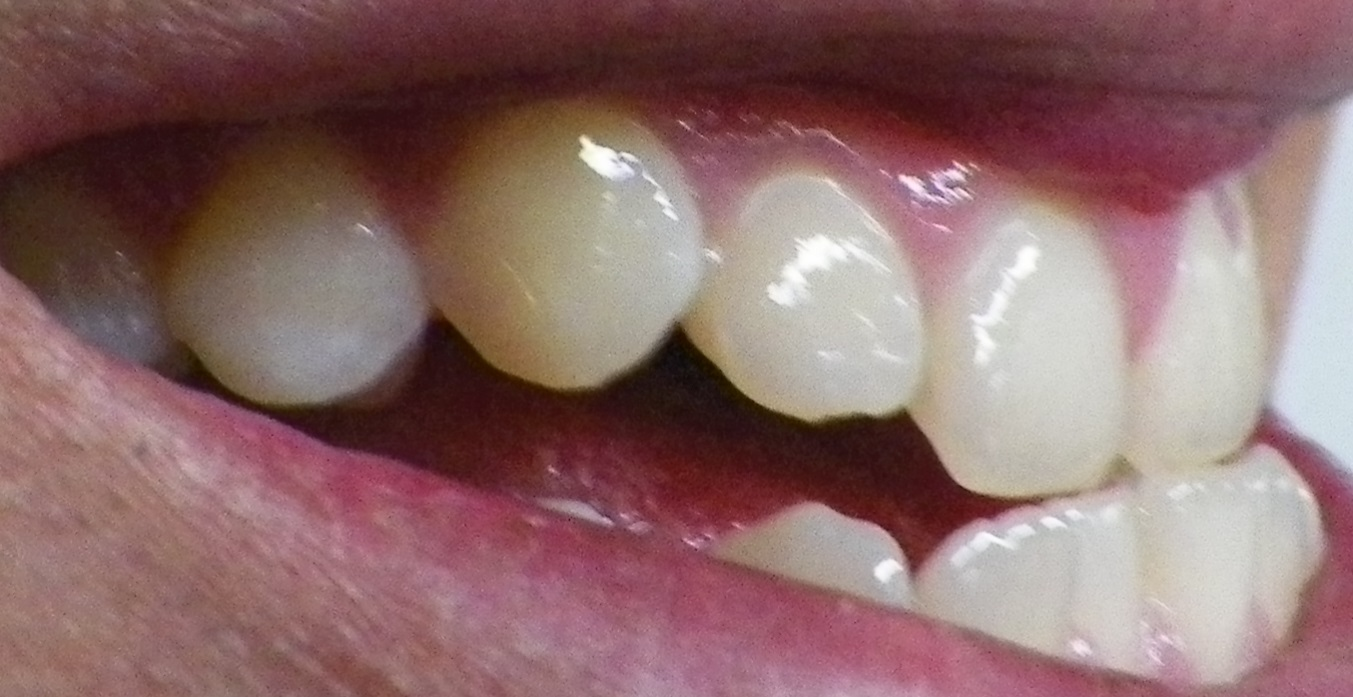boca: (41, 114, 1325, 651)
